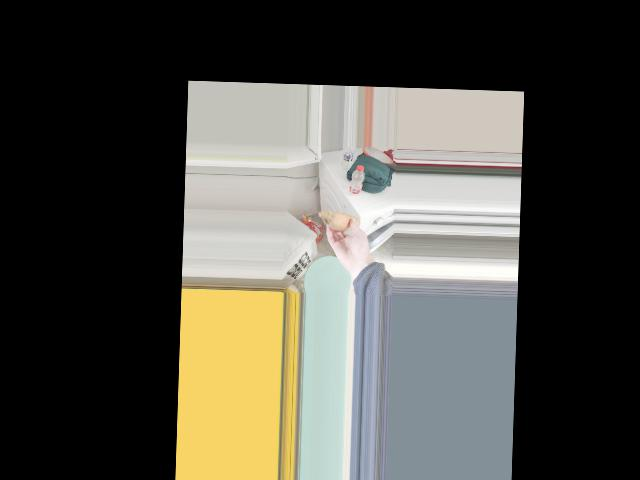sweet_potato: (326, 211, 358, 230)
